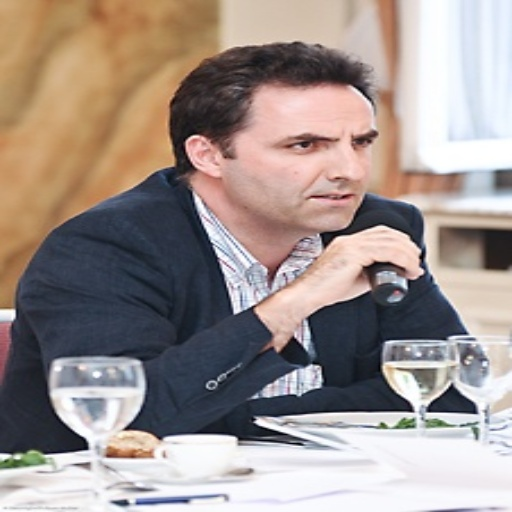hand: (262, 230, 412, 338)
